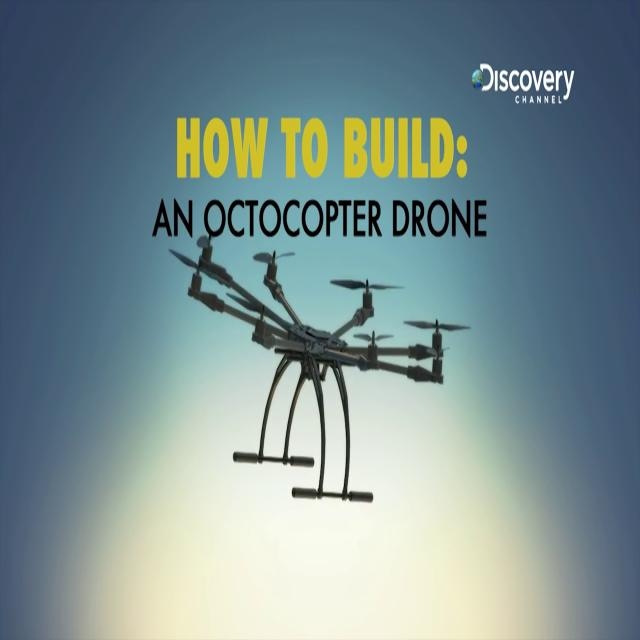drone: (157, 215, 478, 522)
